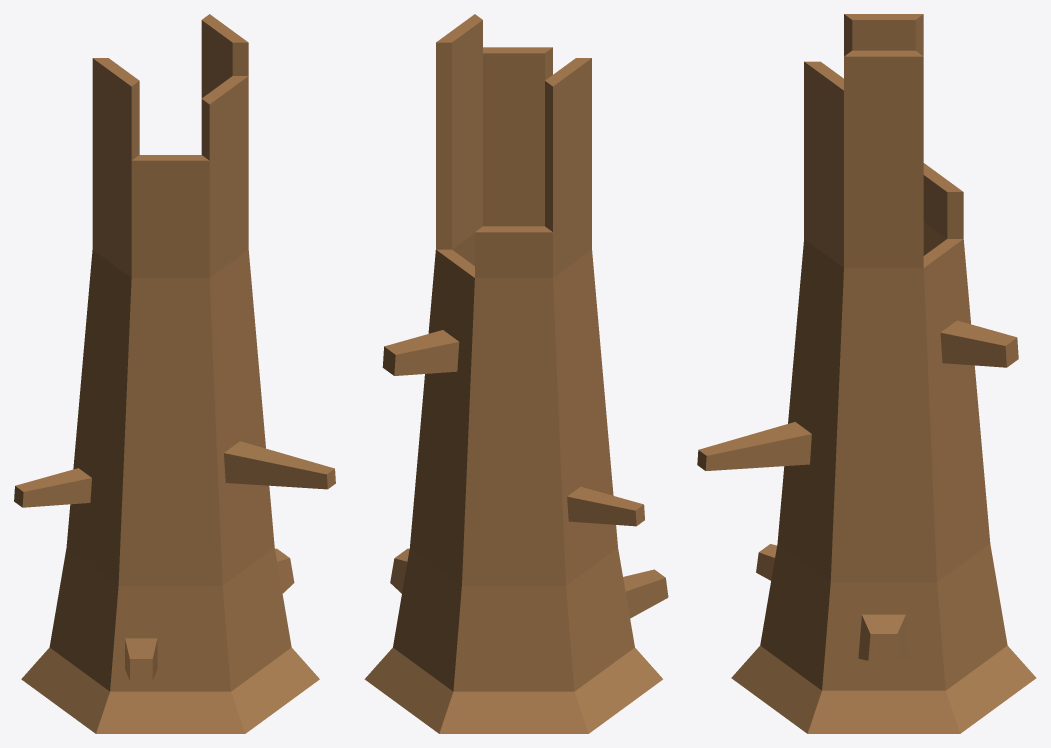
Rendered from trunkLong.fbx.
3 renders of one model, left to right at view 1: azimuth 30°, elevation 25°; view 2: azimuth 150°, elevation 25°; view 3: azimuth 270°, elevation 25°, orthographic. The views are drawn at different scales.
Visible parts, largest first — view 1: trunkLong; view 2: trunkLong; view 3: trunkLong.
Boxes of the visible parts, bbox=[...] form: trunkLong: bbox=[14, 14, 335, 733]; trunkLong: bbox=[364, 14, 668, 733]; trunkLong: bbox=[697, 14, 1036, 733].
Bounding box in the file's own units: 5.44 × 12.94 × 6.12.
